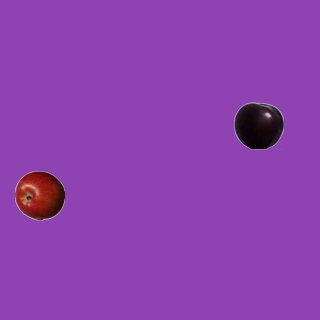Apple Braeburn: (14, 170, 64, 220)
Cherry Wax Black: (233, 100, 283, 150)
